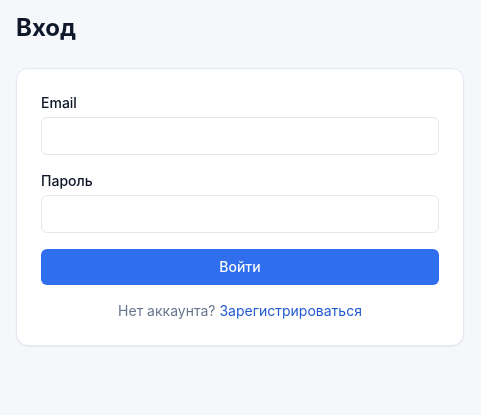
Test: LoginPage › shows the ApiError message on invalid credentials
Type "a@shop.local" into the field labelled "Email" at (240, 136), box top-left (41, 117), bottom-right (439, 155)
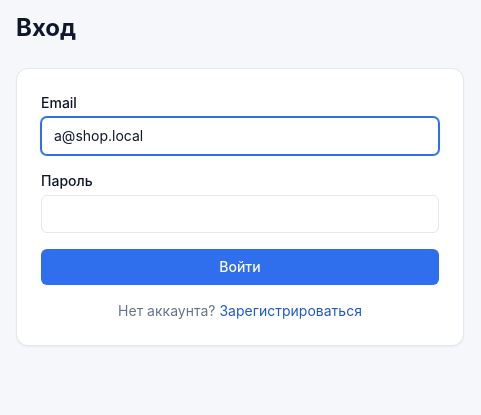
Type "WrongPass1" into the password field labelled "Пароль" at (240, 214), box top-left (41, 195), bottom-right (439, 233)
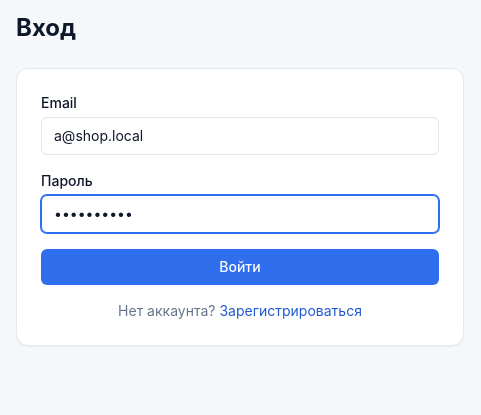
Click the button "Войти" at (240, 267), box top-left (41, 249), bottom-right (439, 285)
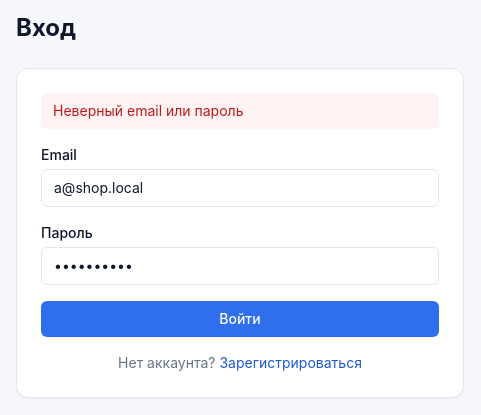
Result: the message reads "Неверный email или пароль" at top-left (53, 102), bottom-right (244, 119)
